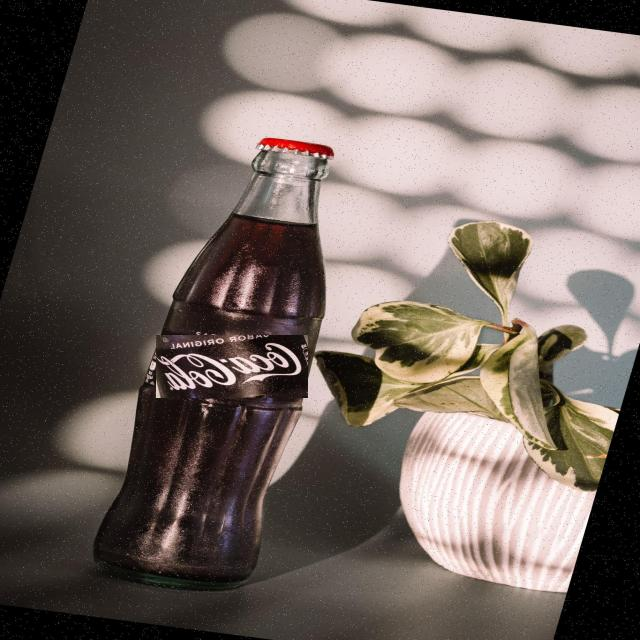coca-cola: (156, 335, 308, 398)
